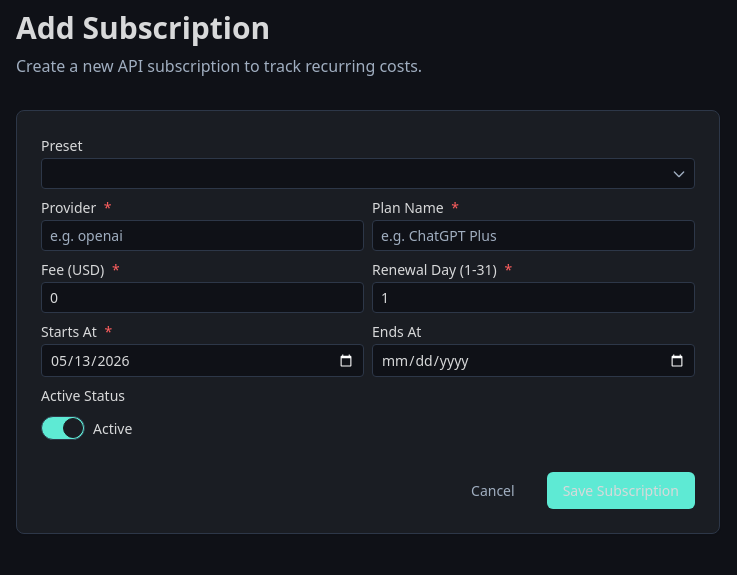
Test: New Subscription Page › shows validation errors for missing required fields
This screenshot has width=737, height=575.
Click the button "Save Subscription" at (621, 490), box [547, 472, 695, 509]
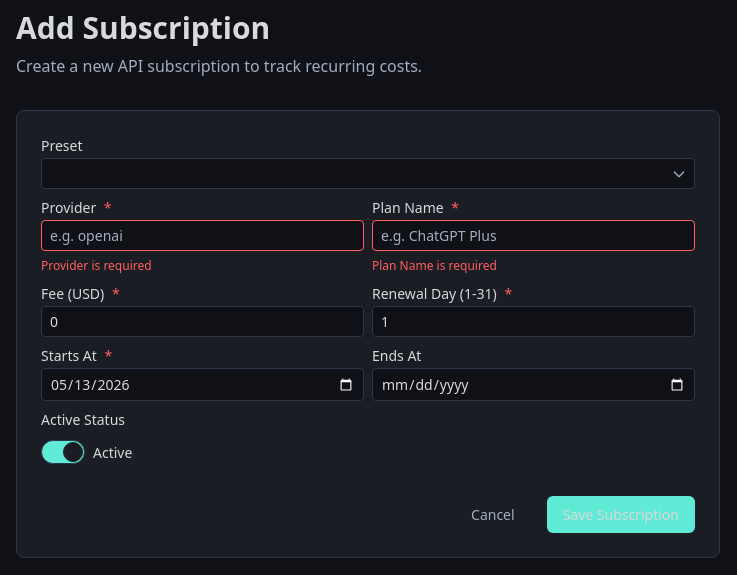
Expected: the text "Provider is required" is shown, [41, 257, 152, 274]
Expected: the text "Plan Name is required" is shown, [372, 257, 497, 274]
